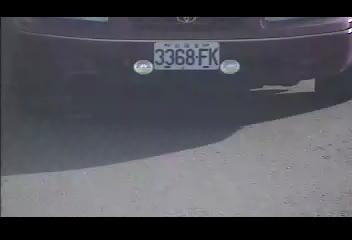plate: (151, 40, 221, 72)
